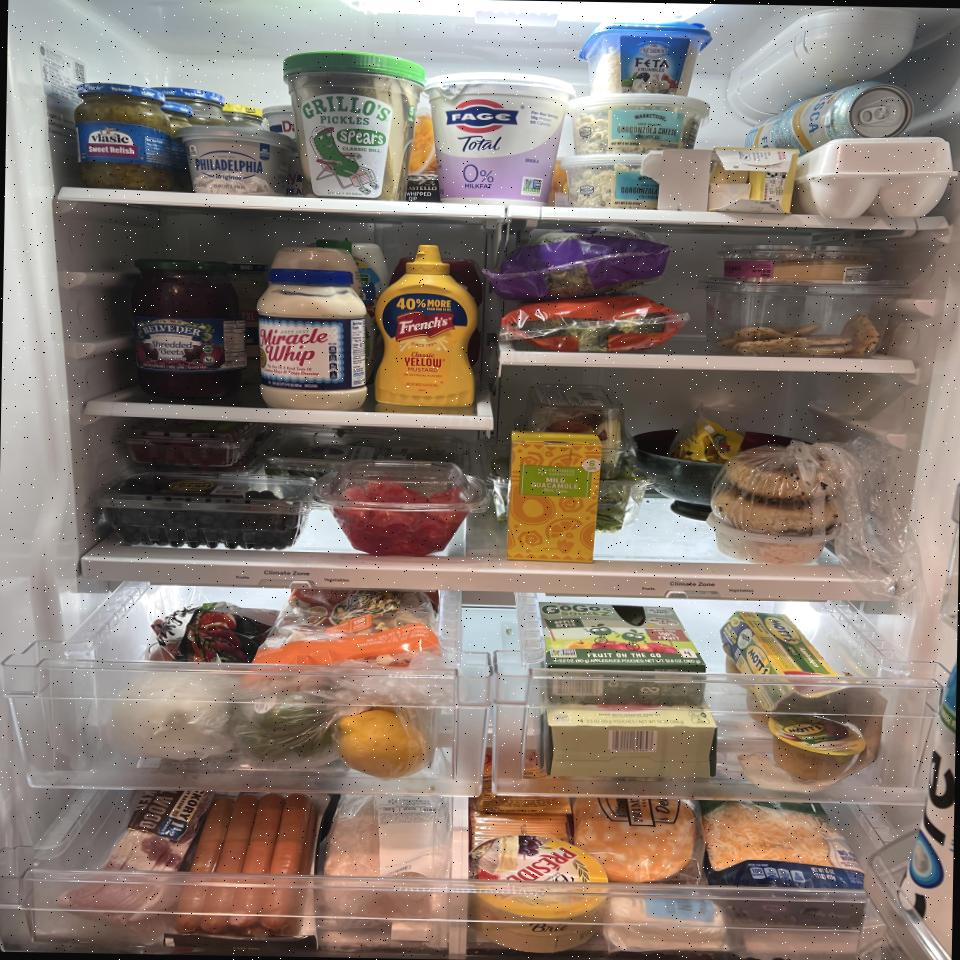Huevos: (800, 136, 955, 222)
Limón: (332, 710, 428, 778)
Yogur: (422, 72, 572, 206)
